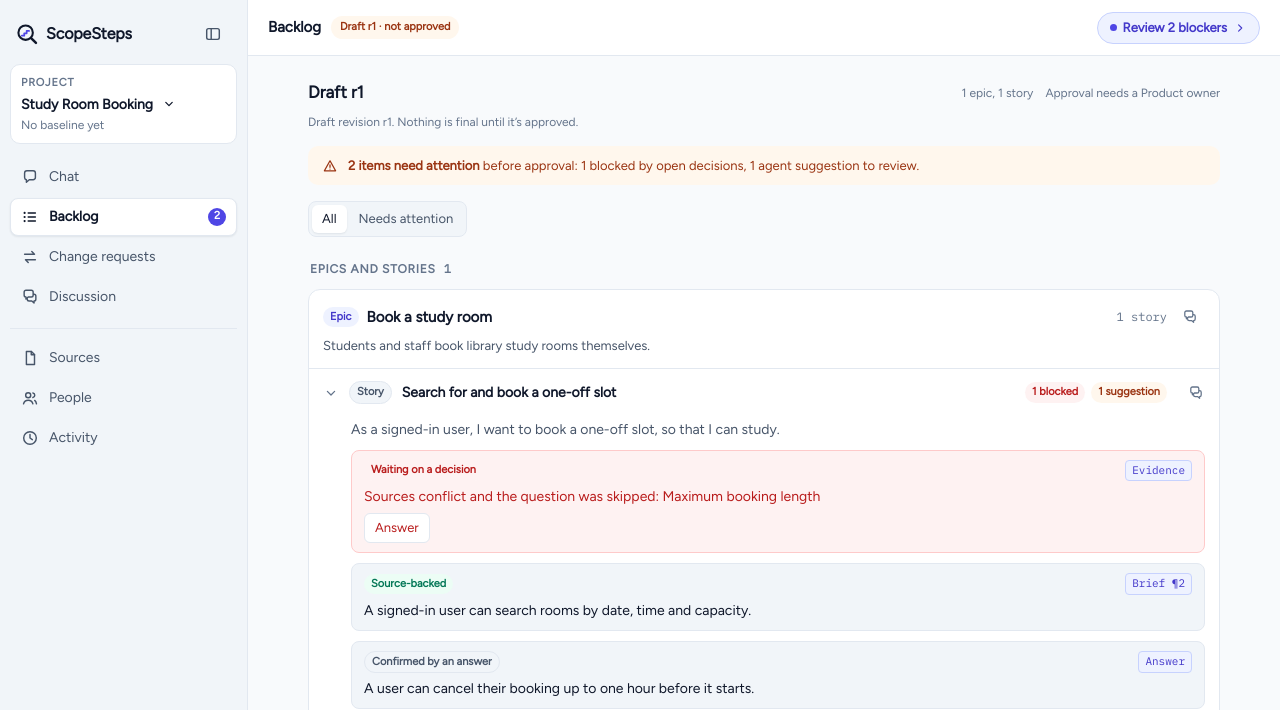
it: Editing a draft › answers a skipped decision on the draft, which clears its blocker
Click the button "Answer" below "Waiting on a decision". click: (397, 528)
box: 364,513 -> 430,543
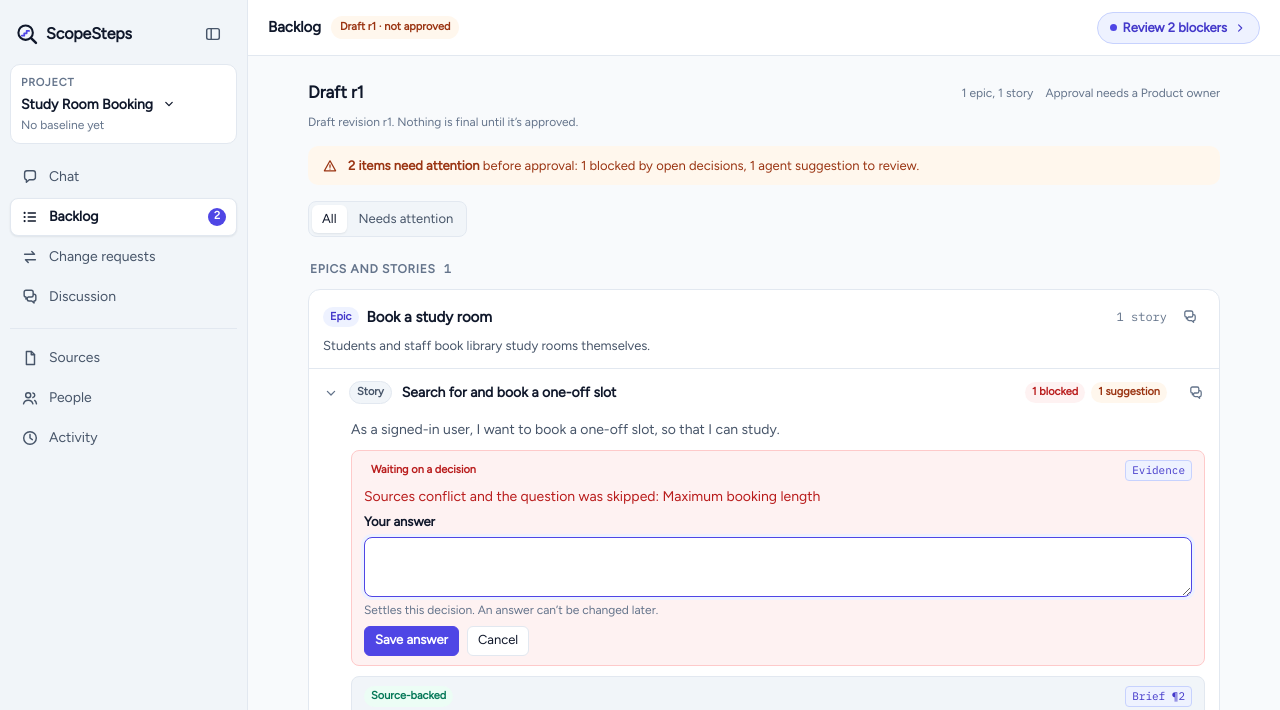
Click the button "Save answer". click: (411, 641)
box: 364,626 -> 459,656
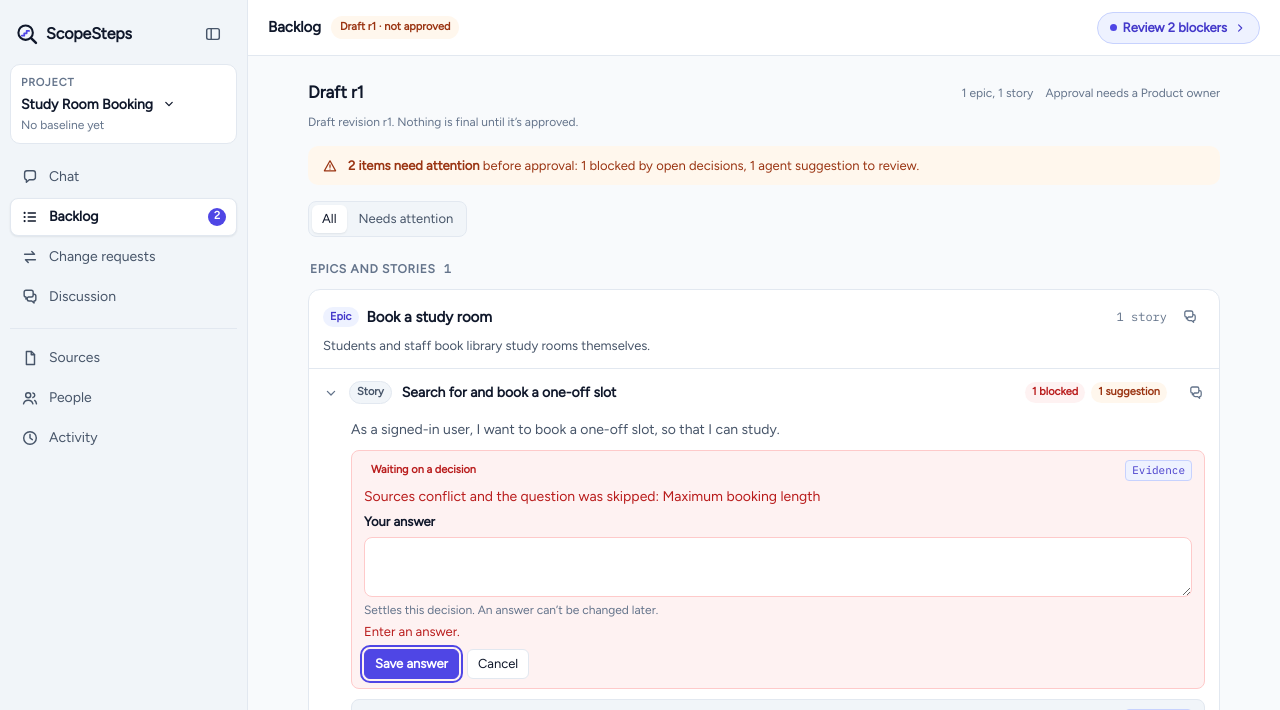
Type "Three hours." into the text box labelled "Your answer". click: (778, 567)
box: 364,537 -> 1192,597
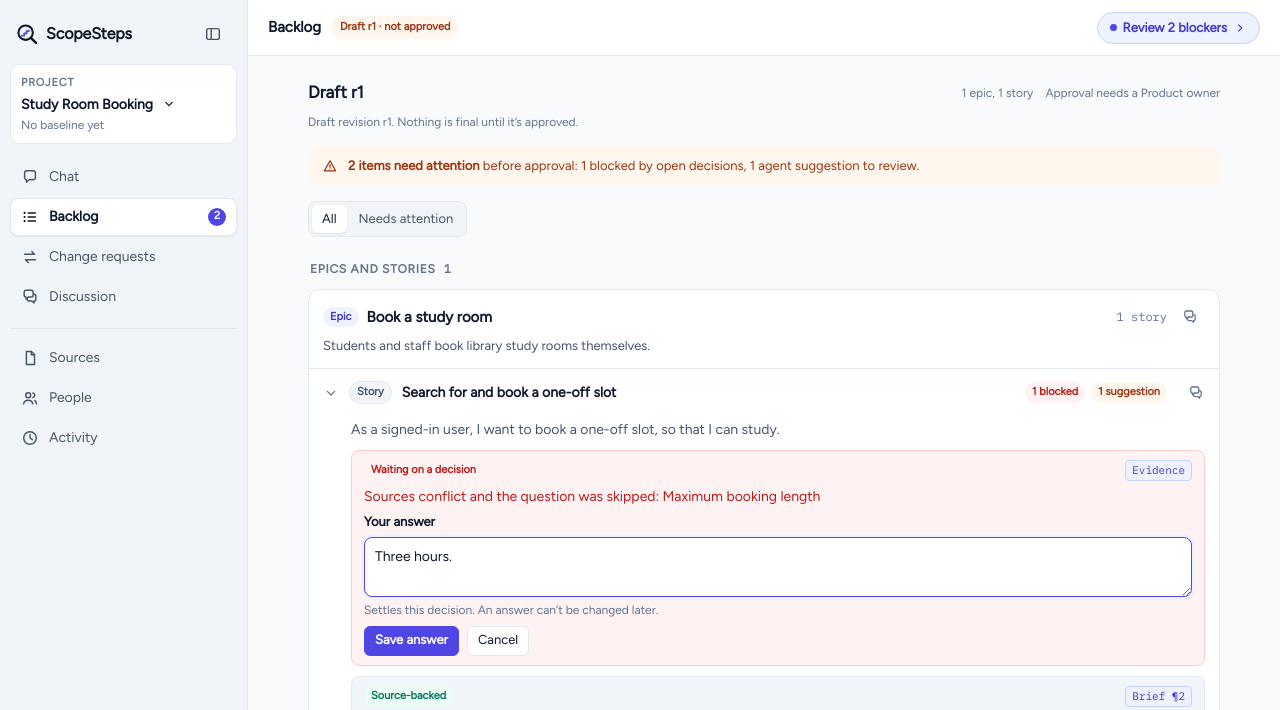
Click the button "Save answer". click: (411, 641)
box: 364,626 -> 459,656
(page scrolled)
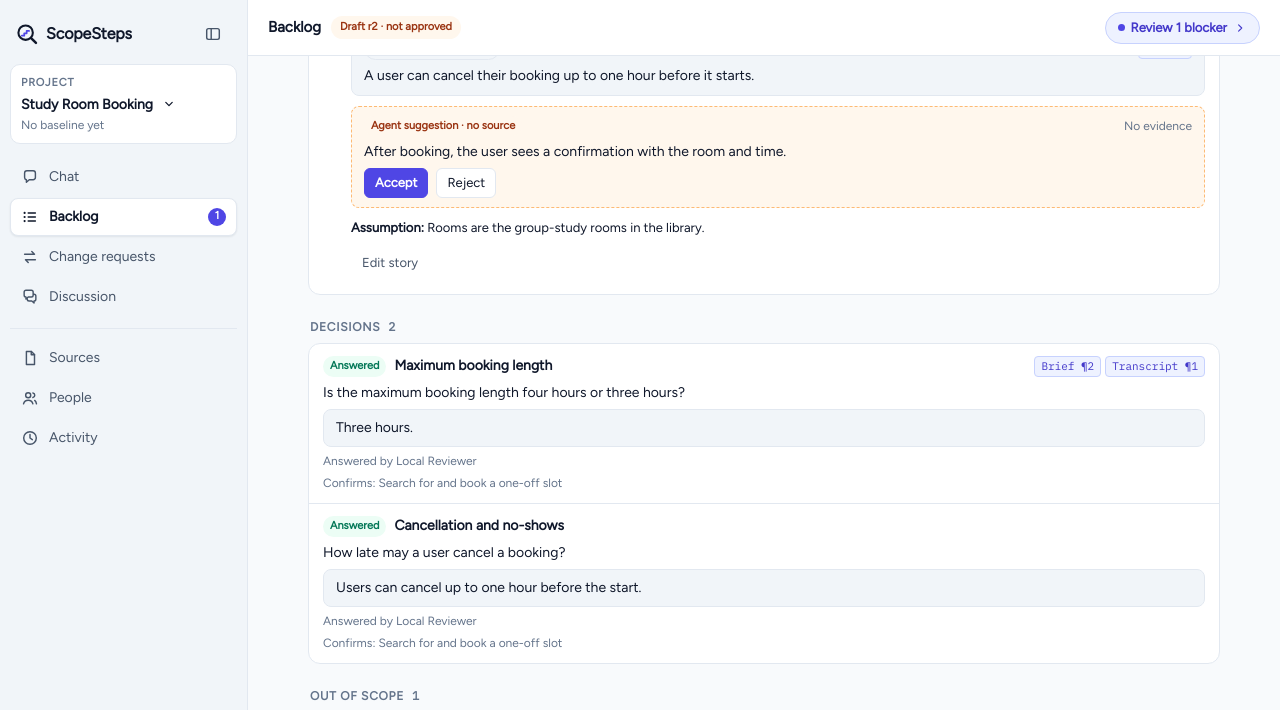
Expected: the text "Three hours." is shown, 323,409 -> 1205,447
